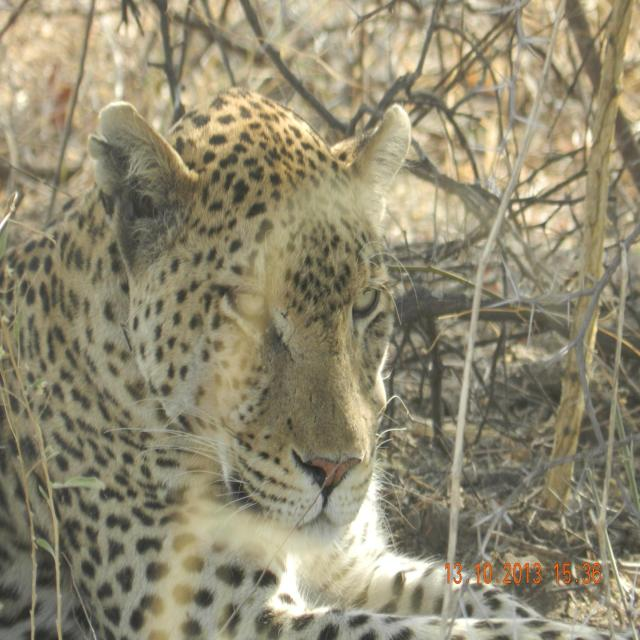Leopard: (0, 78, 586, 640)
